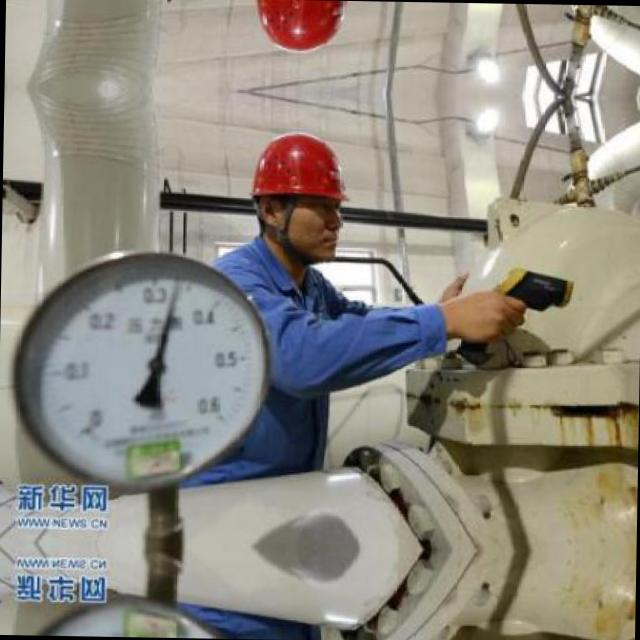helmet: (241, 122, 357, 267), (244, 0, 361, 62)
